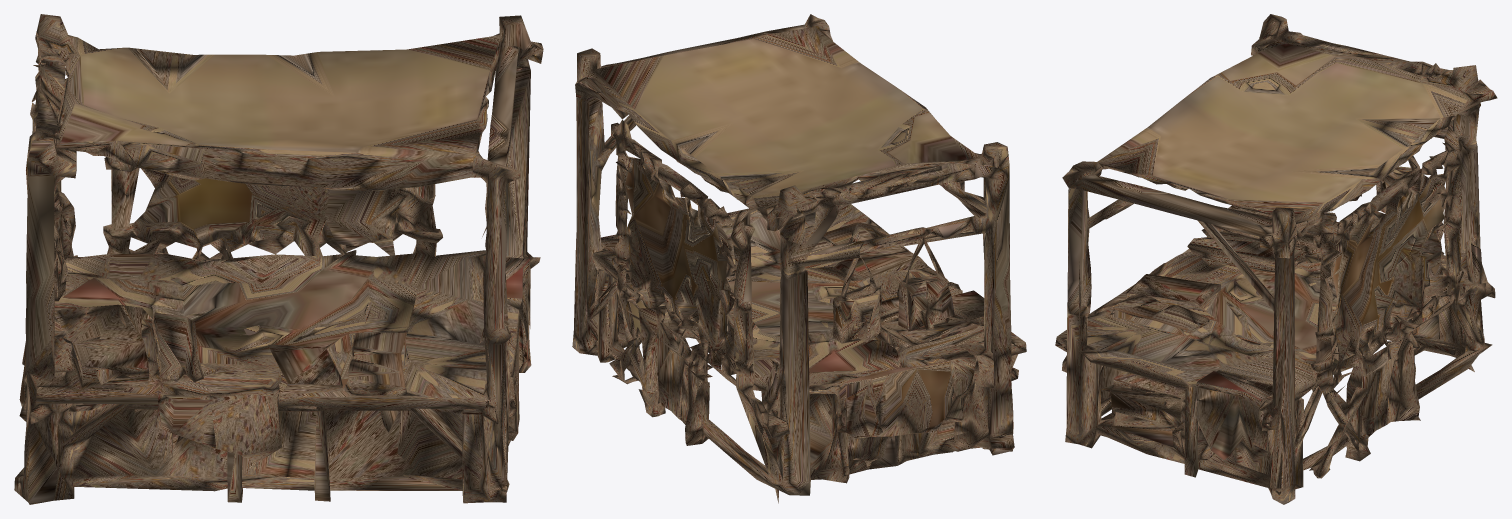
The model's file is tanner-market-stall-pixal3d.glb.
3 renders of one model, left to right at view 1: azimuth 30°, elevation 25°; view 2: azimuth 150°, elevation 25°; view 3: azimuth 270°, elevation 25°, orthographic. The views are drawn at different scales.
Parts seen in each view (by area): view 1: geometry_0; view 2: geometry_0; view 3: geometry_0.
Part boxes in pixels (x1,y1,x2,y2): geometry_0: (14,14,543,504); geometry_0: (572,14,1026,503); geometry_0: (1055,14,1497,504).
Bounding box in the file's own units: 4.13 × 2.8 × 3.7.
Materials: 1 (1 with a texture image).
